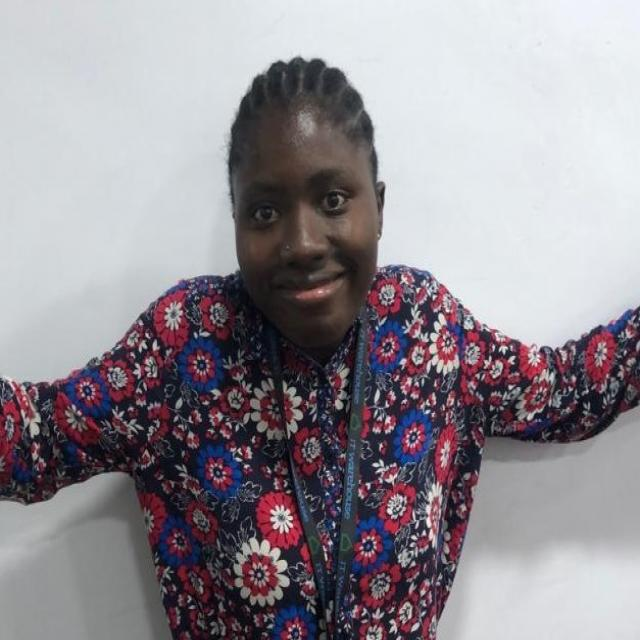happy: (220, 46, 394, 356)
